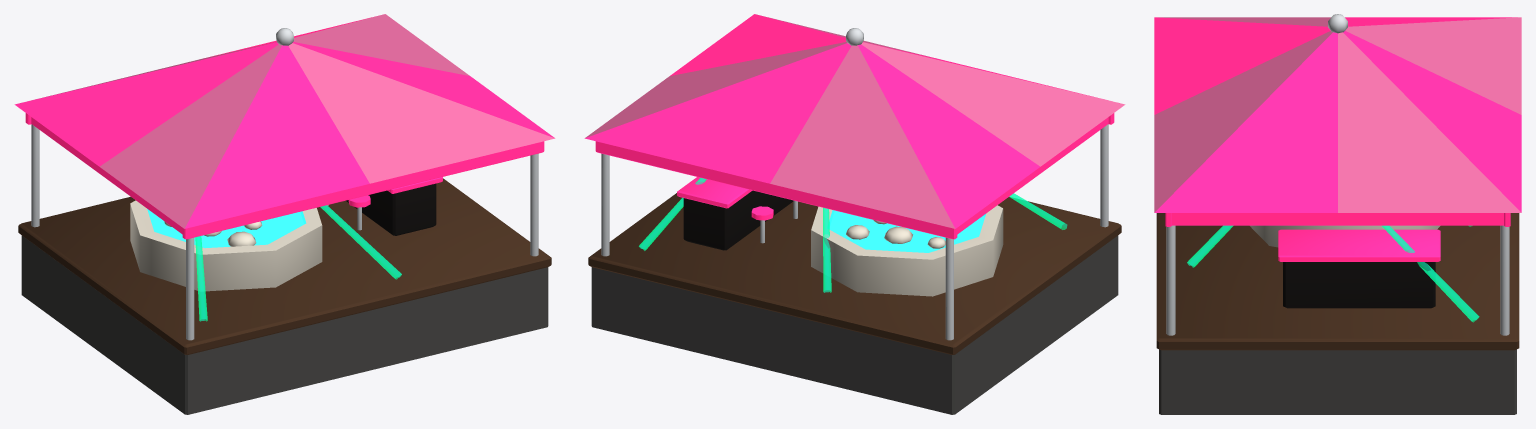
Rendered from prop_jp_whirlpool_tent.glb.
The picture shows the model from 3 angles, left to right: view 1: azimuth 30°, elevation 25°; view 2: azimuth 150°, elevation 25°; view 3: azimuth 270°, elevation 25°; orthographic projection. The views are drawn at different scales.
Parts seen in each view (by area): view 1: body; view 2: body; view 3: body.
Part boxes in pixels (box(x1,y1,x2,y2)): body: box(14, 14, 555, 414); body: box(584, 14, 1125, 414); body: box(1154, 14, 1521, 414).
Size of the model in its own units: 9.7 by 7.04 by 7.7.
